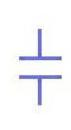Capacitor: (11, 44, 65, 85)
